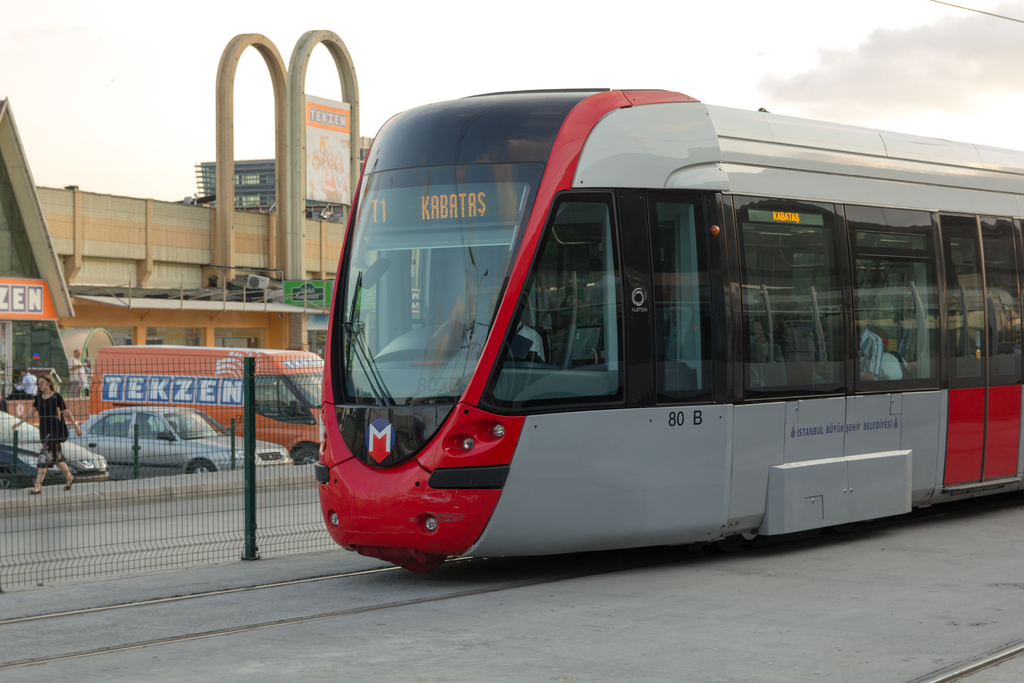Car: (70, 404, 293, 473), (0, 404, 107, 484)
